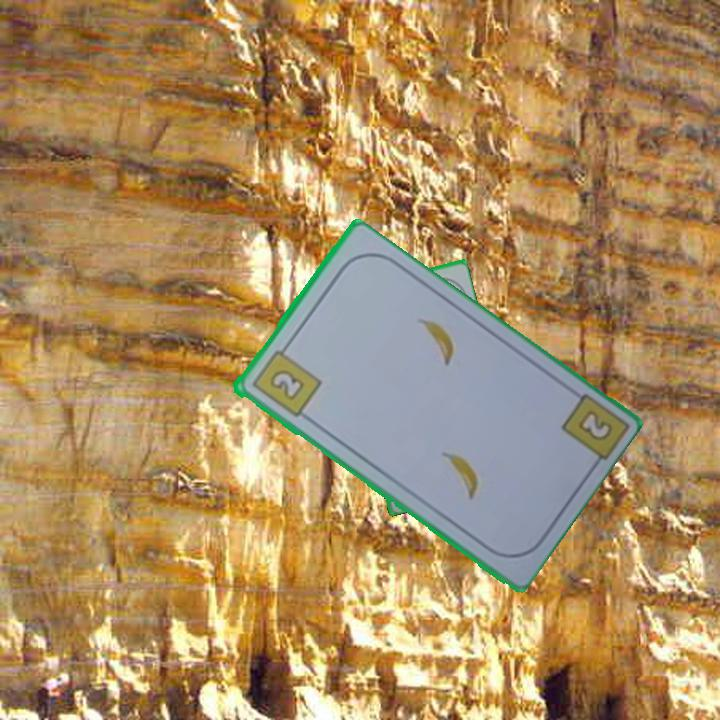2b: (247, 340, 324, 420), (573, 406, 615, 445)
